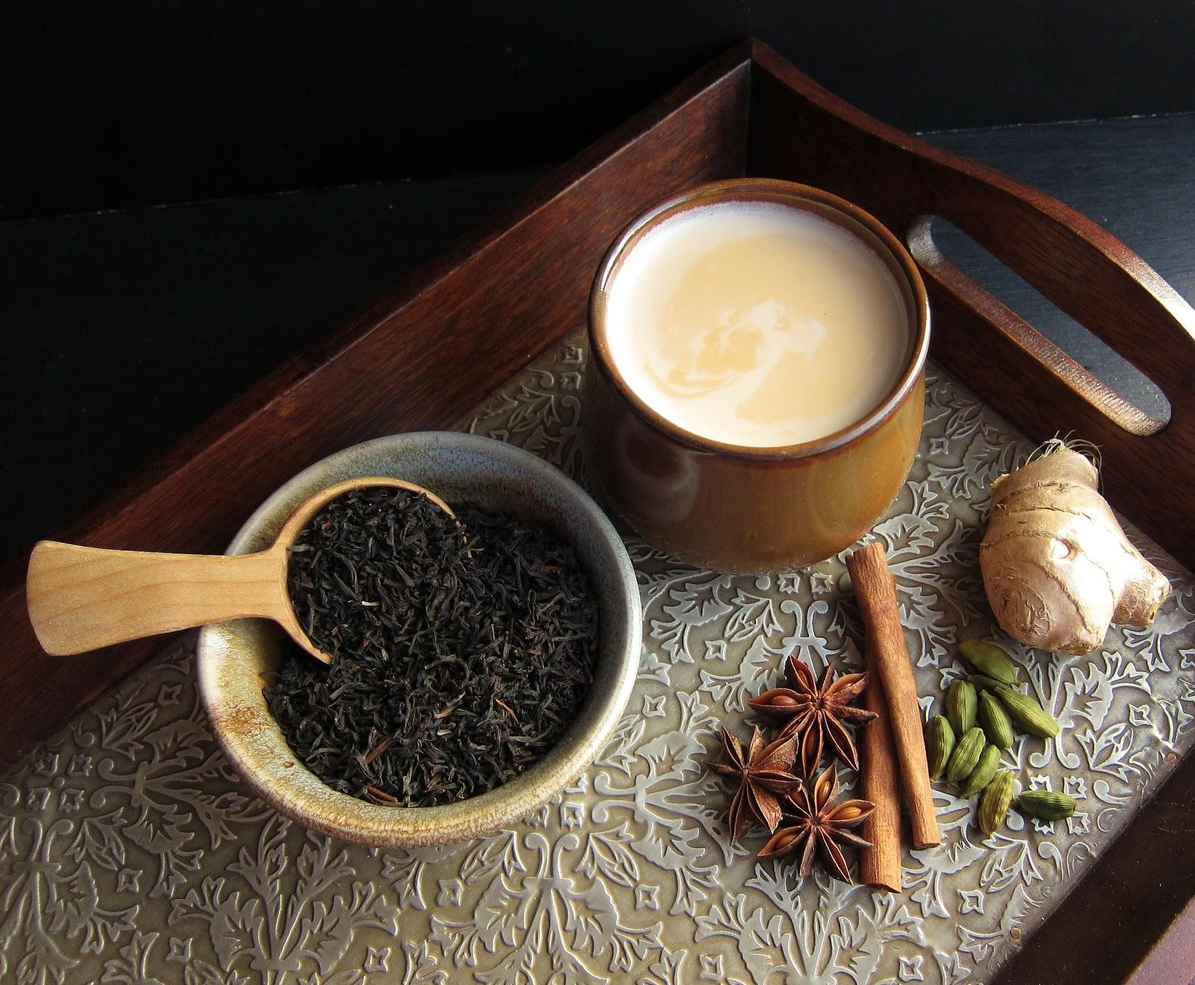Chai: (603, 208, 911, 445)
